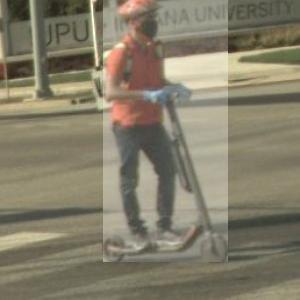with scooter: (103, 0, 228, 262)
